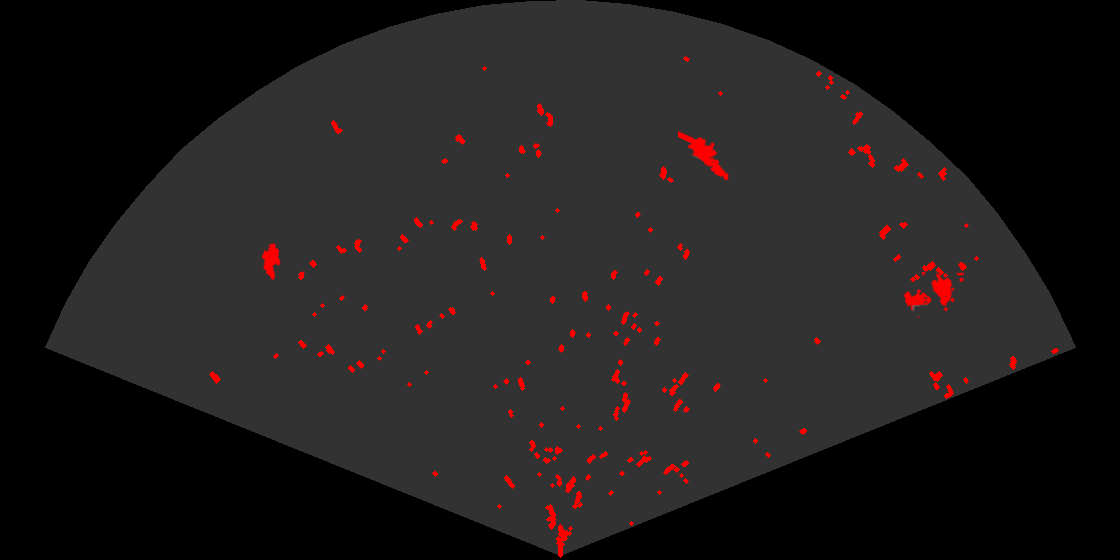AUV: (260, 241, 282, 282)
cage: (901, 272, 964, 320)
frogman: (678, 129, 731, 182)
